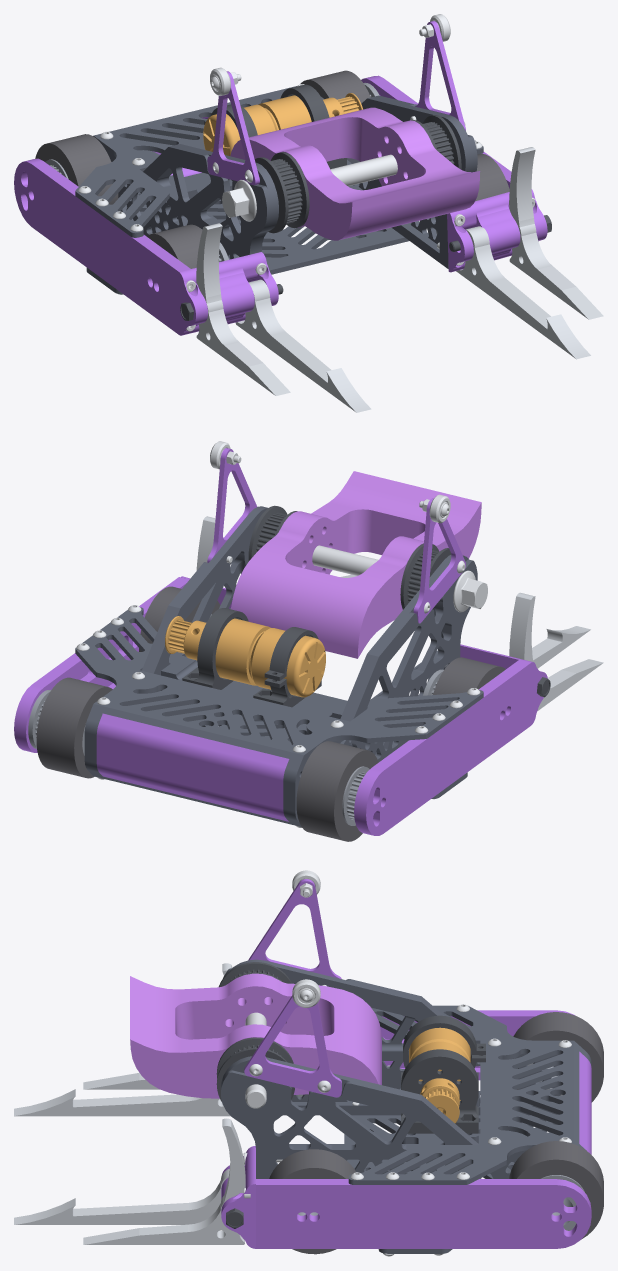
File: Robot8.glb
The picture shows the model from 3 angles, top to bottom: view 1: azimuth 30°, elevation 25°; view 2: azimuth 150°, elevation 25°; view 3: azimuth 270°, elevation 25°; orthographic projection.
Parts seen in each view (by area): view 1: Chassis, Weapon_Pivot, Armor_Side_L, Armor_Top, Armor_Side_R, Armor_Wedge_R, Armor_Wedge_L, Armor_Fork_L, Armor_Fork_R, Wheel_Rear_L, Wheel_Front_L, Wheel_Rear_R (+1 smaller); view 2: Chassis, Weapon_Pivot, Armor_Top, Armor_Side_L, Armor_Rear, Wheel_Rear_L, Wheel_Rear_R, Armor_Side_R, Armor_Wedge_L, Wheel_Front_L, Armor_Fork_L, Wheel_Front_R (+1 smaller); view 3: Chassis, Armor_Side_R, Weapon_Pivot, Armor_Top, Armor_Wedge_R, Armor_Fork_L, Armor_Fork_R, Wheel_Rear_R, Wheel_Rear_L, Wheel_Front_R, Armor_Rear, Armor_Side_L (+1 smaller).
Part boxes in pixels (box(x1,y1,x2,y2)): Chassis: box(78, 14, 551, 331); Weapon_Pivot: box(222, 107, 480, 240); Armor_Side_L: box(14, 158, 278, 335); Armor_Top: box(75, 86, 483, 237); Armor_Side_R: box(361, 75, 547, 272); Armor_Wedge_R: box(509, 147, 603, 319); Armor_Wedge_L: box(196, 223, 290, 395); Armor_Fork_L: box(235, 279, 371, 412); Armor_Fork_R: box(456, 226, 590, 359); Wheel_Rear_L: box(35, 134, 118, 204); Wheel_Front_L: box(147, 224, 228, 268); Wheel_Rear_R: box(300, 70, 379, 102); Chassis: box(76, 441, 550, 827); Weapon_Pivot: box(231, 471, 487, 658); Armor_Top: box(75, 607, 483, 761); Armor_Side_L: box(354, 644, 547, 835); Armor_Rear: box(96, 713, 289, 821); Wheel_Rear_L: box(296, 741, 378, 841); Wheel_Rear_R: box(28, 677, 112, 778); Armor_Side_R: box(14, 576, 232, 752); Armor_Wedge_L: box(509, 592, 603, 710); Wheel_Front_L: box(423, 657, 505, 695); Armor_Fork_L: box(532, 626, 590, 668); Wheel_Front_R: box(139, 586, 220, 651); Chassis: box(221, 870, 591, 1256); Armor_Side_R: box(221, 1146, 591, 1248); Weapon_Pivot: box(130, 962, 381, 1108); Armor_Top: box(348, 1005, 579, 1184); Armor_Wedge_R: box(83, 1118, 245, 1244); Armor_Fork_L: box(14, 1089, 230, 1116); Armor_Fork_R: box(14, 1169, 229, 1224); Wheel_Rear_R: box(509, 1141, 603, 1239); Wheel_Rear_L: box(513, 1012, 603, 1102); Wheel_Front_R: box(269, 1149, 355, 1254); Armor_Rear: box(579, 1051, 591, 1154); Armor_Side_L: box(380, 1010, 574, 1080).
Bounding box in the file's own units: 1.88 × 1.2 × 2.61.
